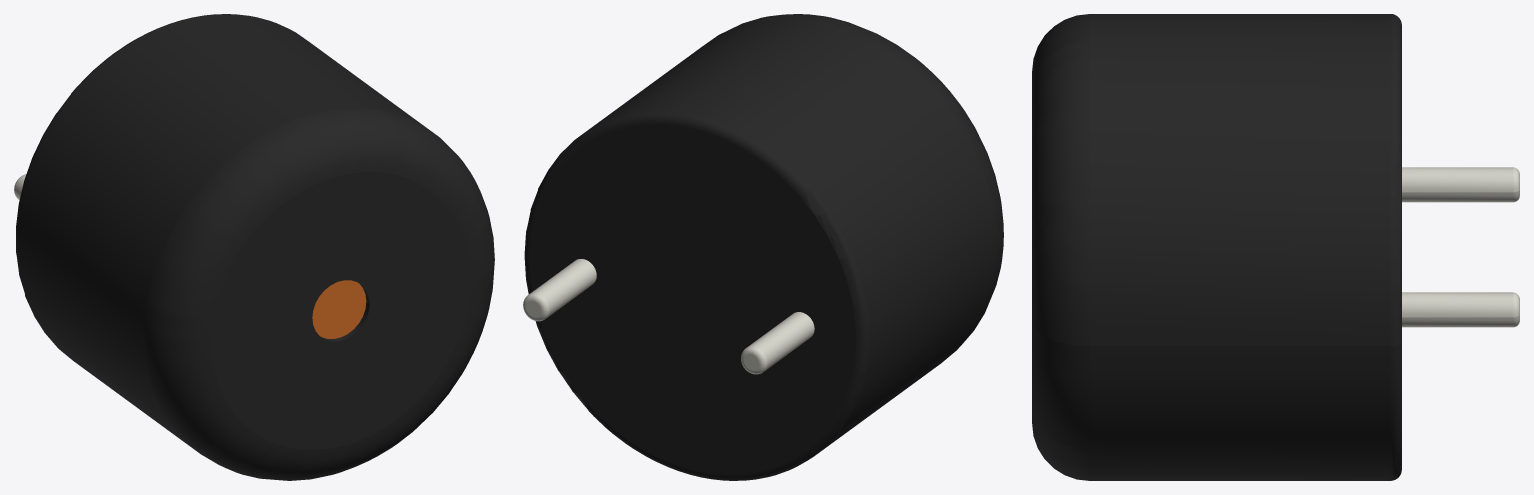
The model's file is Buzzer_Beeper_Buzzer_12x9.5RM7.6.glb.
The picture shows the model from 3 angles, left to right: view 1: azimuth 30°, elevation 25°; view 2: azimuth 150°, elevation 25°; view 3: azimuth 270°, elevation 25°; orthographic projection. The views are drawn at different scales.
Bounding box in the file's own units: 11.99 × 11.99 × 12.53.
